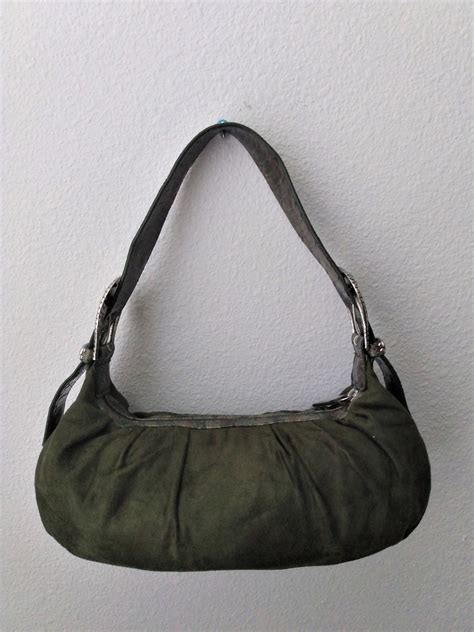gamuza: (32, 339, 432, 571)
